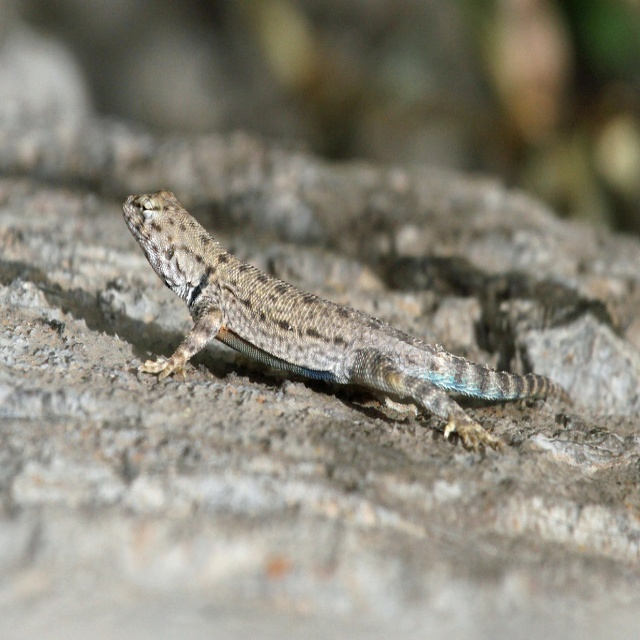Lizard: (120, 184, 568, 454)
